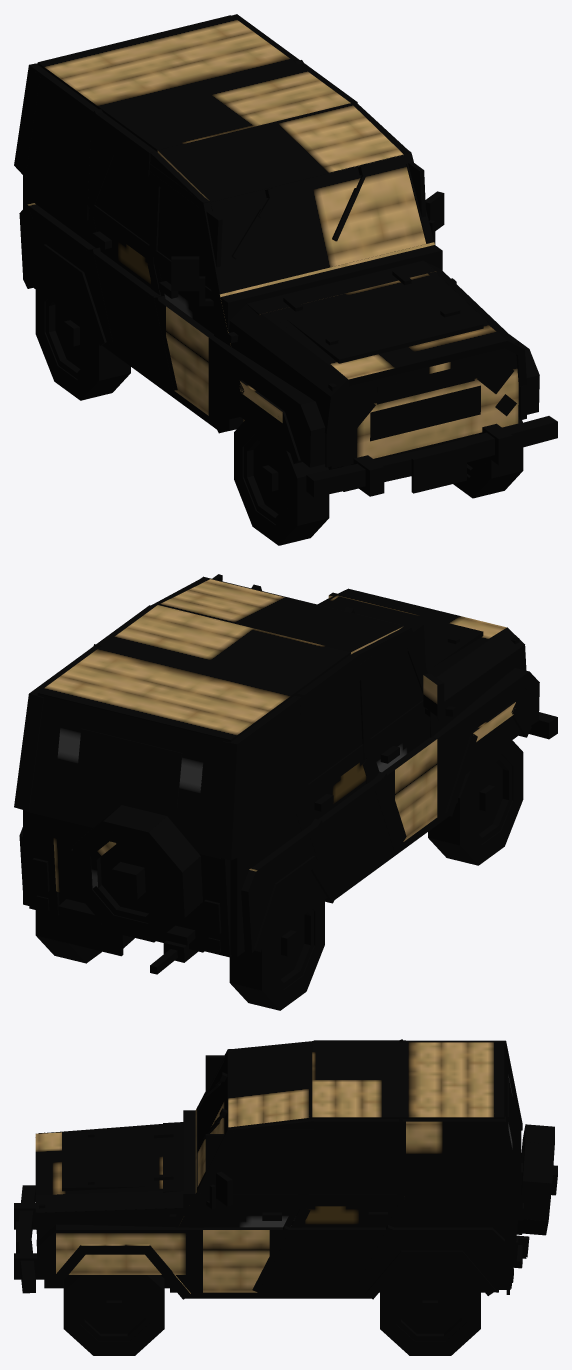
Rendered from uaz.obj.
3 renders of one model, top to bottom at view 1: azimuth 30°, elevation 25°; view 2: azimuth 150°, elevation 25°; view 3: azimuth 270°, elevation 25°, orthographic. The views are drawn at different scales.
Visible parts, largest first — view 1: body, w1, w3, w2; view 2: body, w1, w3, w4; view 3: body, w2, w4.
Boxes of the visible parts, x1,y1,x2,y2 form: body: (14,14,557,497); w1: (234,420,329,545); w3: (35,290,130,400); w2: (453,417,523,498); body: (14,574,557,974); w1: (428,740,523,865); w3: (229,900,324,1010); w4: (35,910,101,963); body: (14,1039,557,1299); w2: (63,1275,164,1355); w4: (380,1292,480,1355).
Bounding box in the file's own units: 2.39 × 2.43 × 5.16.
